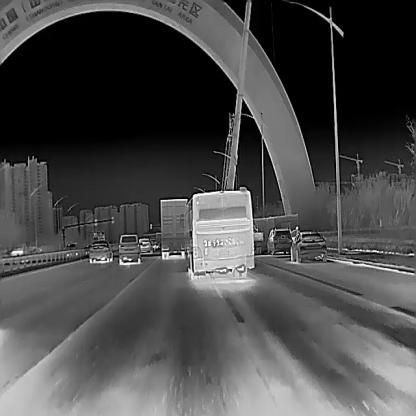car: (178, 186, 254, 280), (159, 199, 189, 259), (290, 231, 326, 262), (118, 233, 141, 264), (266, 228, 291, 254), (88, 240, 112, 263), (9, 250, 29, 263), (137, 237, 152, 253), (64, 245, 78, 256)
